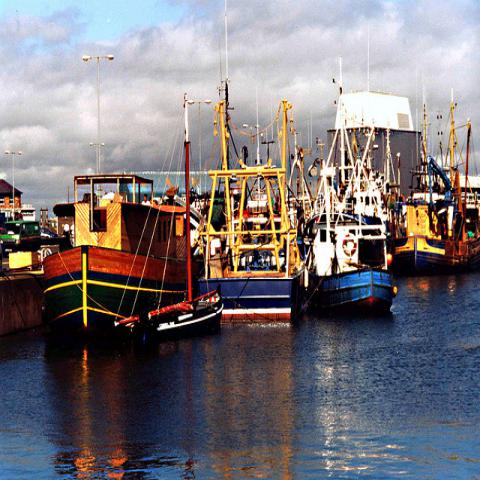car: (40, 228, 58, 238)
